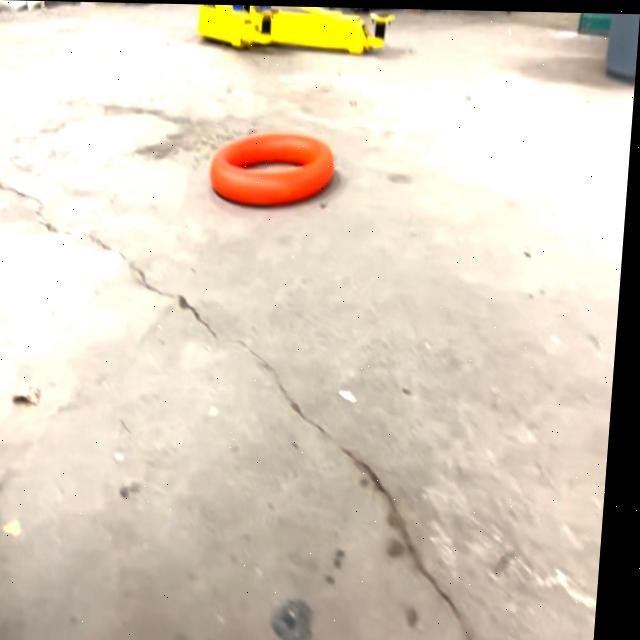note: (208, 127, 341, 209)
